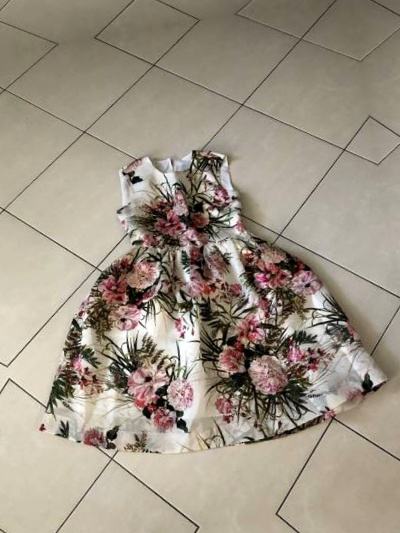Dress: (0, 105, 385, 487), (0, 168, 14, 533)
